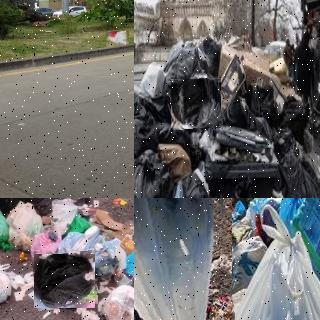Garbage: (134, 198, 240, 320), (223, 198, 320, 320), (270, 198, 320, 303), (33, 252, 97, 310), (170, 78, 222, 129), (187, 198, 229, 255), (134, 149, 172, 198), (7, 199, 42, 250), (276, 94, 307, 140), (97, 284, 134, 320), (140, 60, 165, 96), (31, 231, 57, 259), (0, 208, 11, 252), (0, 261, 11, 303), (106, 30, 129, 47)
